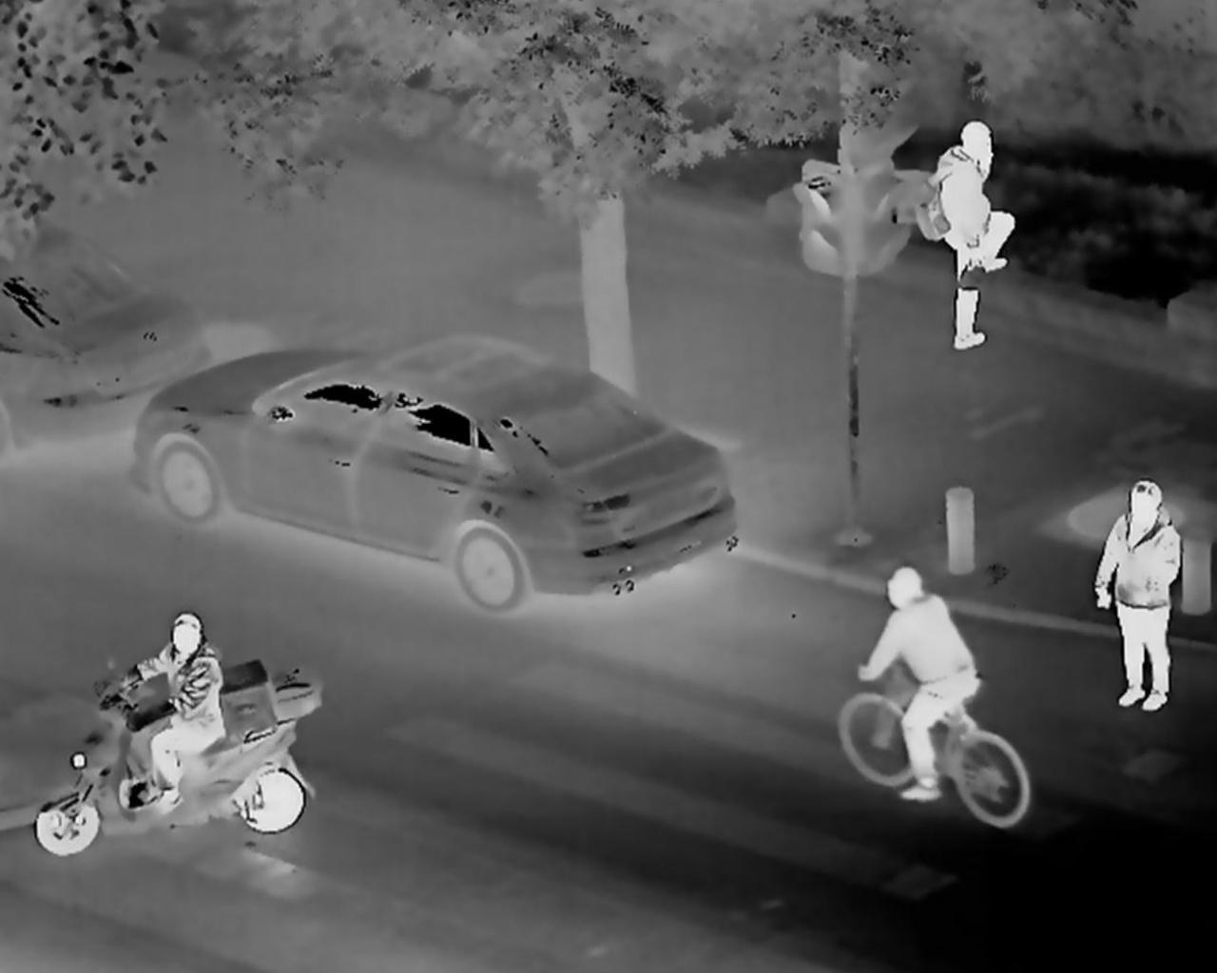person: (852, 566, 971, 804), (916, 124, 1020, 350), (1091, 474, 1185, 715), (122, 613, 242, 790)
